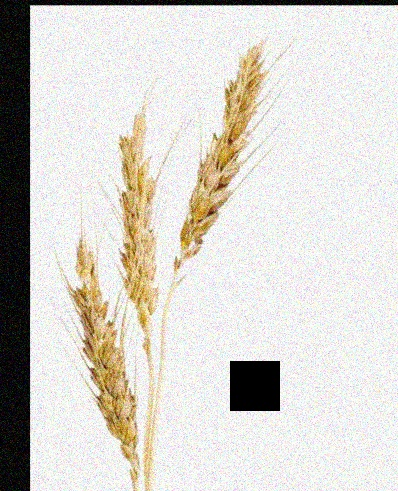wheat: (169, 18, 306, 311), (37, 222, 143, 468), (114, 91, 160, 357)
